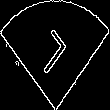L_SW: (34, 26, 76, 84)
